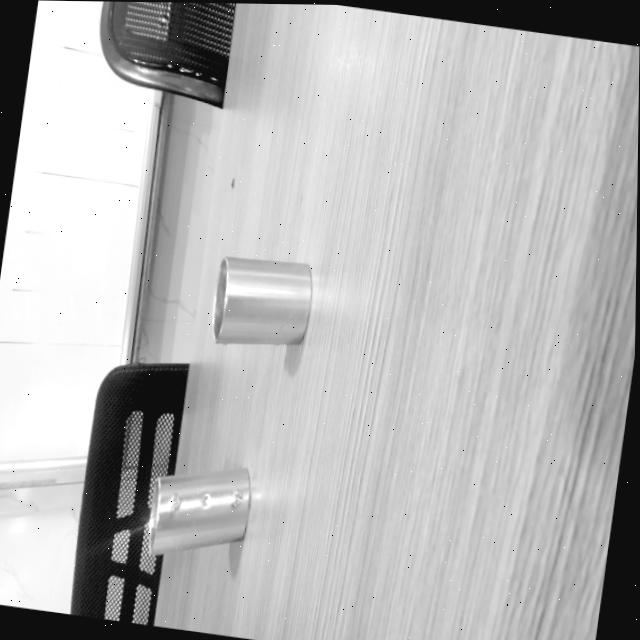Co_Lon: (141, 467, 255, 555)
Co_Nho: (209, 256, 312, 351)
